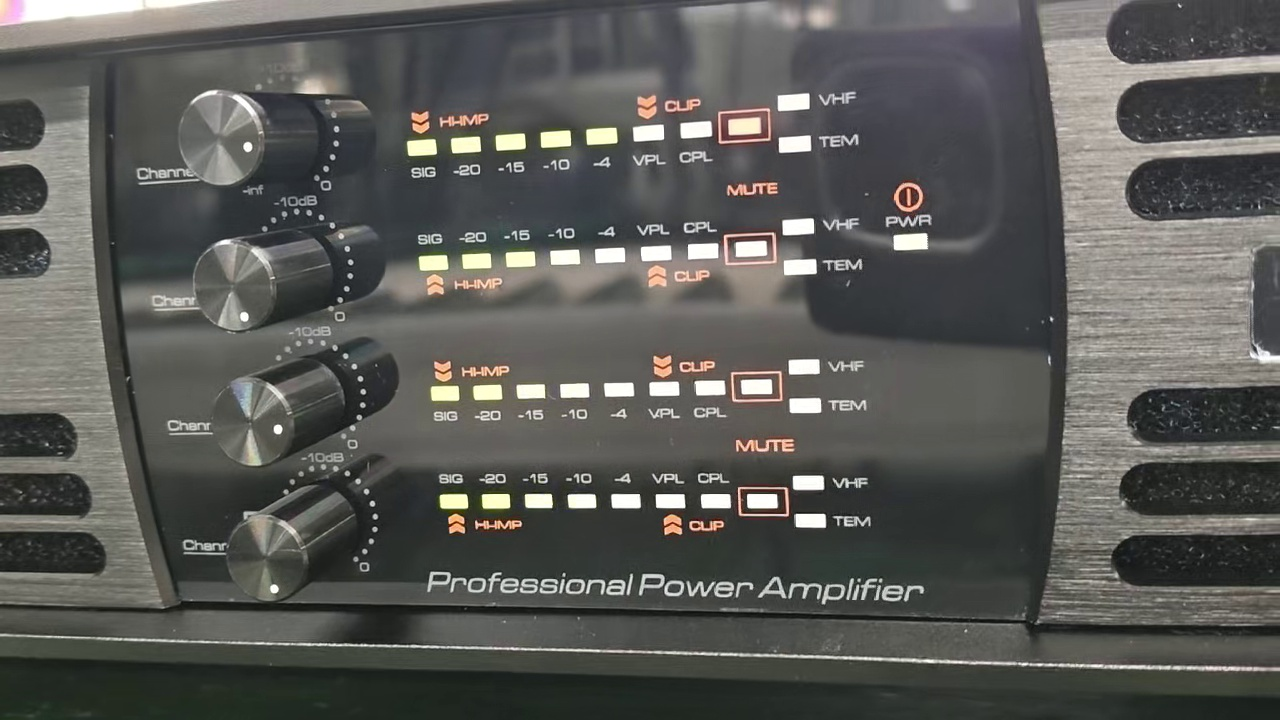FP_CPL: (674, 118, 715, 178), (676, 214, 722, 267), (695, 461, 733, 514), (689, 377, 730, 423)
FP_PWR: (876, 210, 942, 259)
FP_PWR_area: (422, 347, 871, 425), (874, 173, 946, 261)
FP_SIG_area: (399, 84, 871, 180), (410, 206, 864, 301), (429, 459, 877, 537)
FP_VPL: (626, 120, 675, 176), (634, 215, 677, 267), (649, 461, 689, 512), (643, 377, 686, 424)
